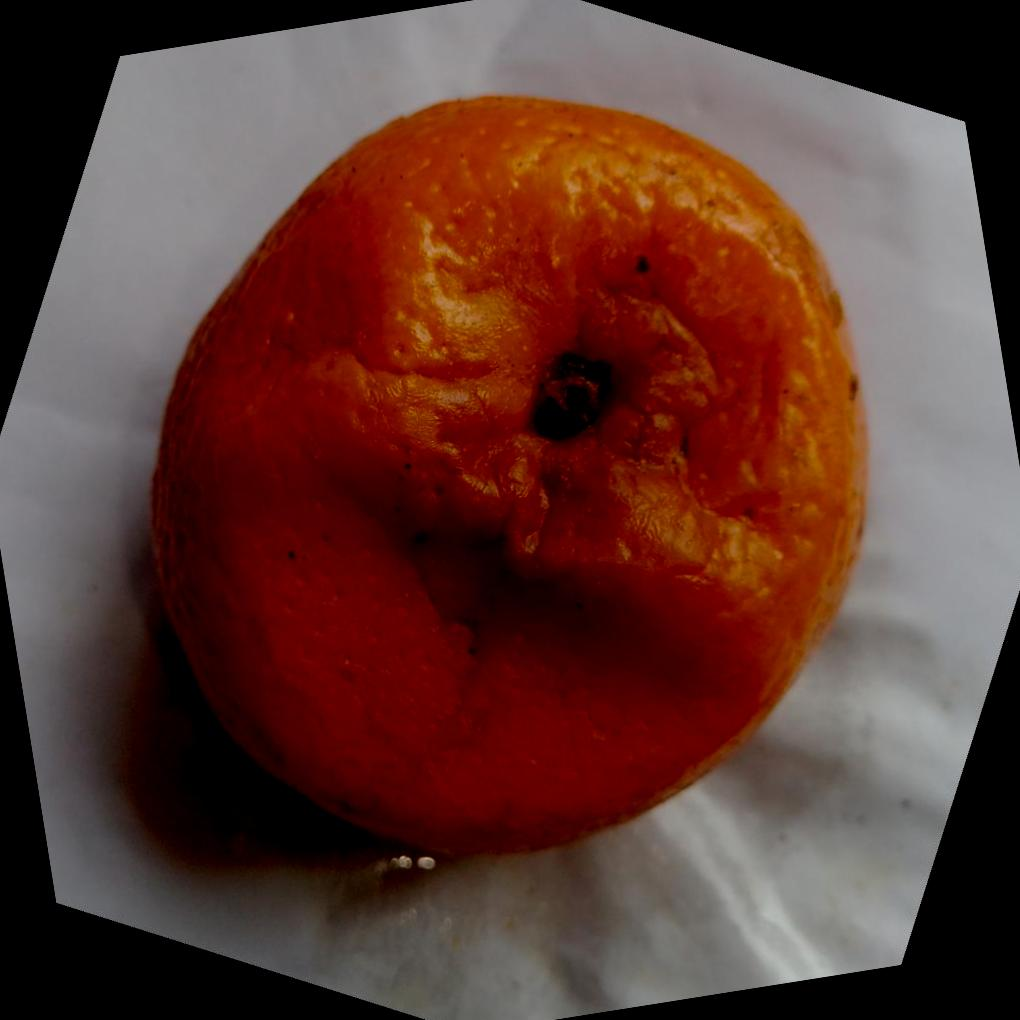FreshOrange: (146, 94, 871, 863)
